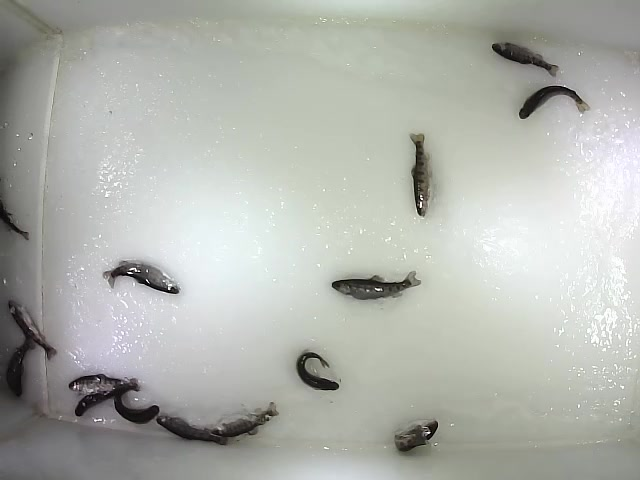fish: (7, 299, 59, 362), (101, 259, 183, 297), (331, 270, 423, 302), (491, 40, 561, 79), (74, 378, 142, 418), (517, 85, 592, 121), (210, 401, 279, 437), (156, 415, 230, 447), (407, 131, 433, 218), (295, 347, 341, 392), (5, 335, 36, 398), (113, 385, 160, 426), (65, 371, 142, 393), (393, 417, 440, 453)
